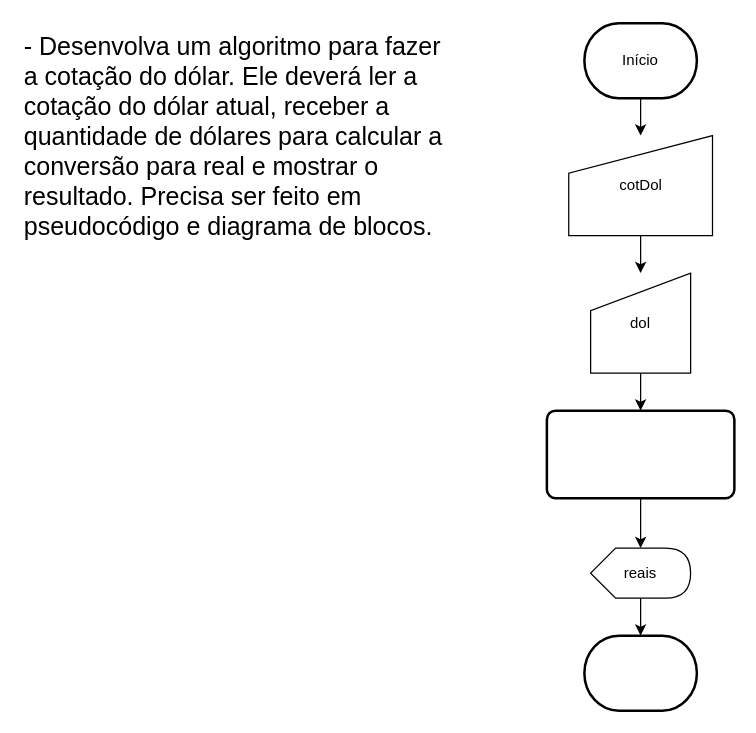
The diagram is 756 pixels wide and 733 high, and some of its shapes have lost their labels. Each missing label, with the centre of its shape:
"Fim" belongs at point (640, 672).
"reais <- dol * cotDol" belongs at point (640, 454).
